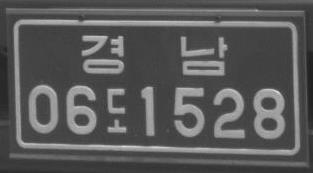0: (27, 83, 59, 136)
1: (135, 85, 162, 137)
2: (212, 86, 246, 139)
5: (172, 86, 206, 138)
6: (64, 84, 98, 136)
8: (251, 86, 287, 140)
경남_D: (80, 33, 228, 76)
도: (105, 86, 128, 134)
